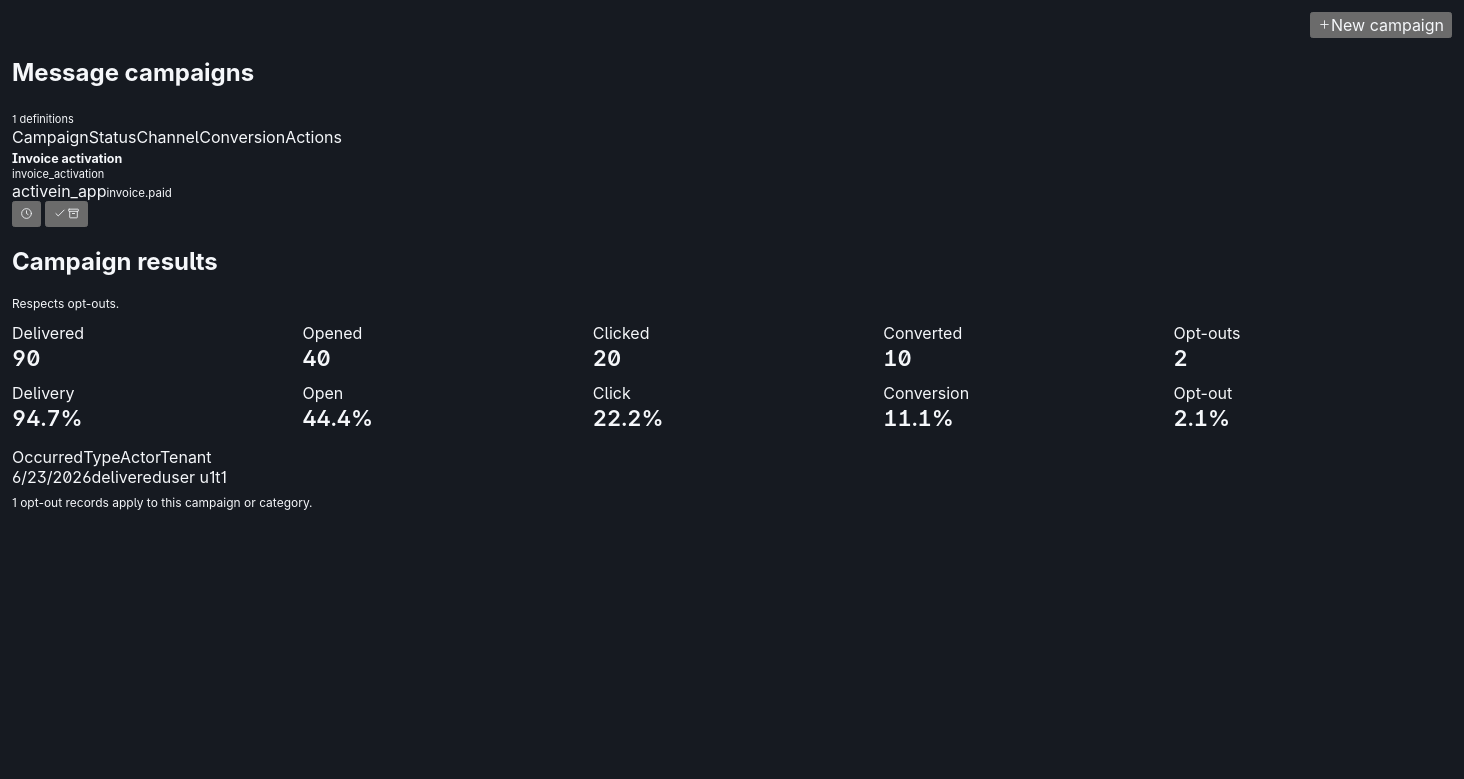
Test: CampaignsTab › disables create when an email/webhook channel is missing a notification channel id
This screenshot has width=1464, height=779.
Click the button "New campaign": (1381, 25) [1310,12,1452,38]
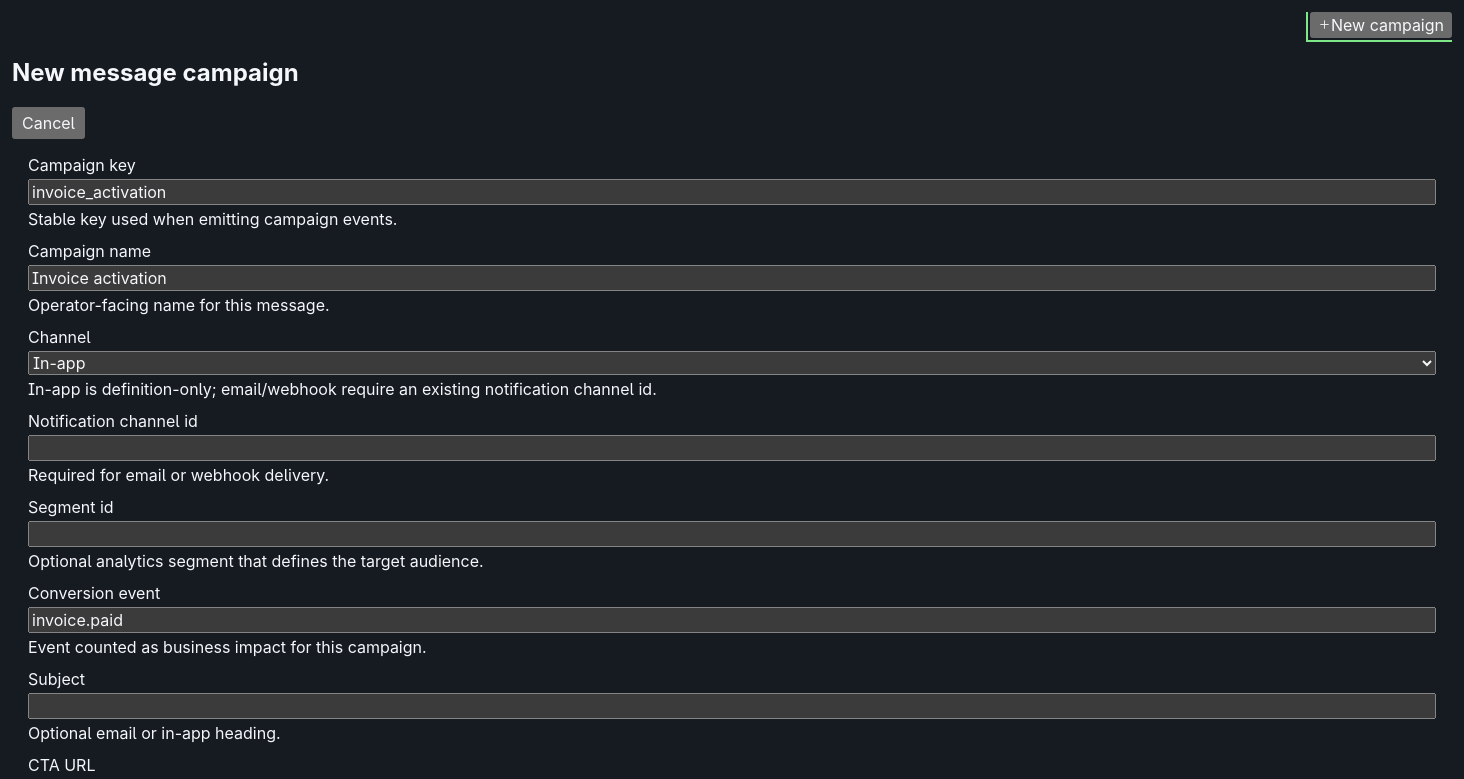
Select "Email" in the dropdown showing "In-app": (732, 363) [28,351,1436,375]
(page scrolled)
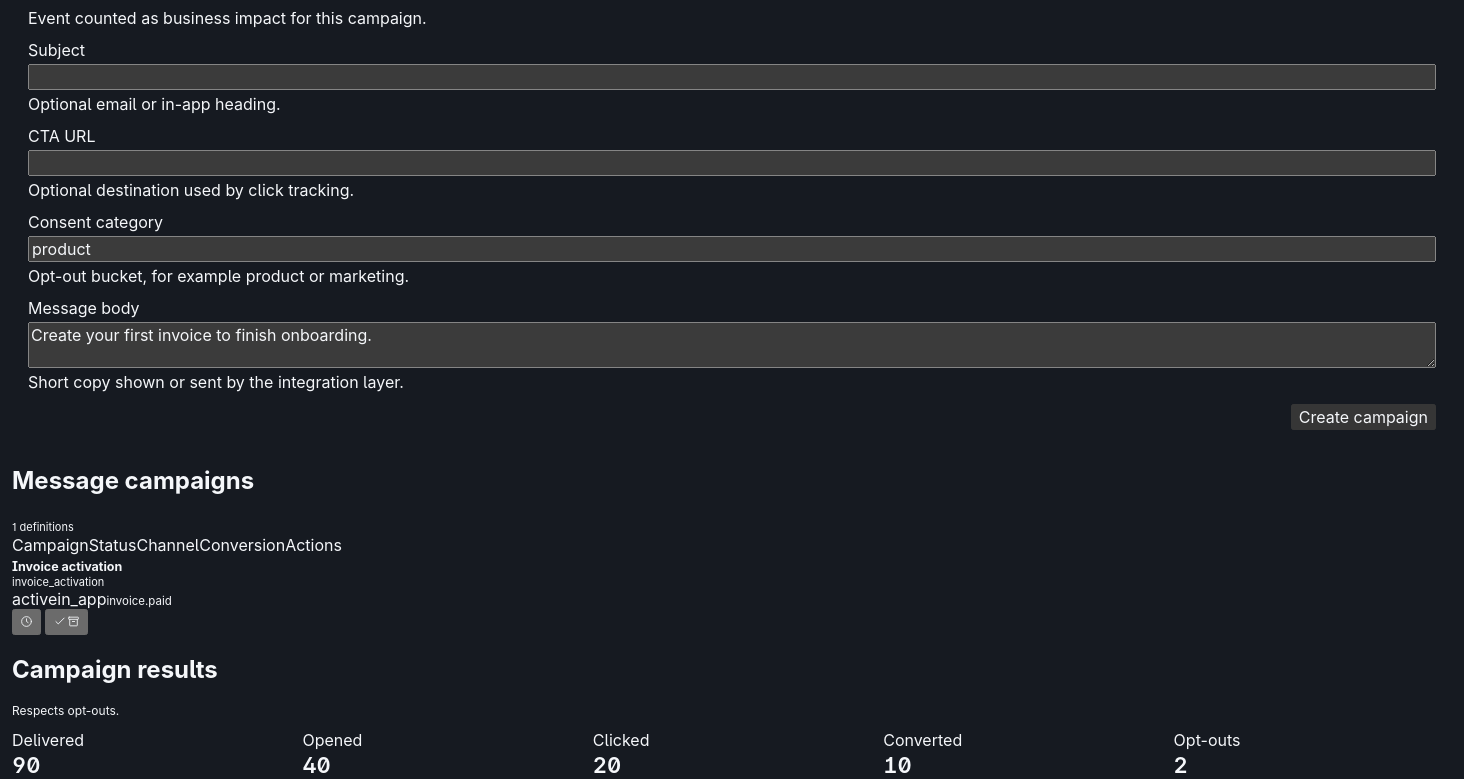
Expected: the button "Create campaign" is disabled, [1291,404,1436,430]
